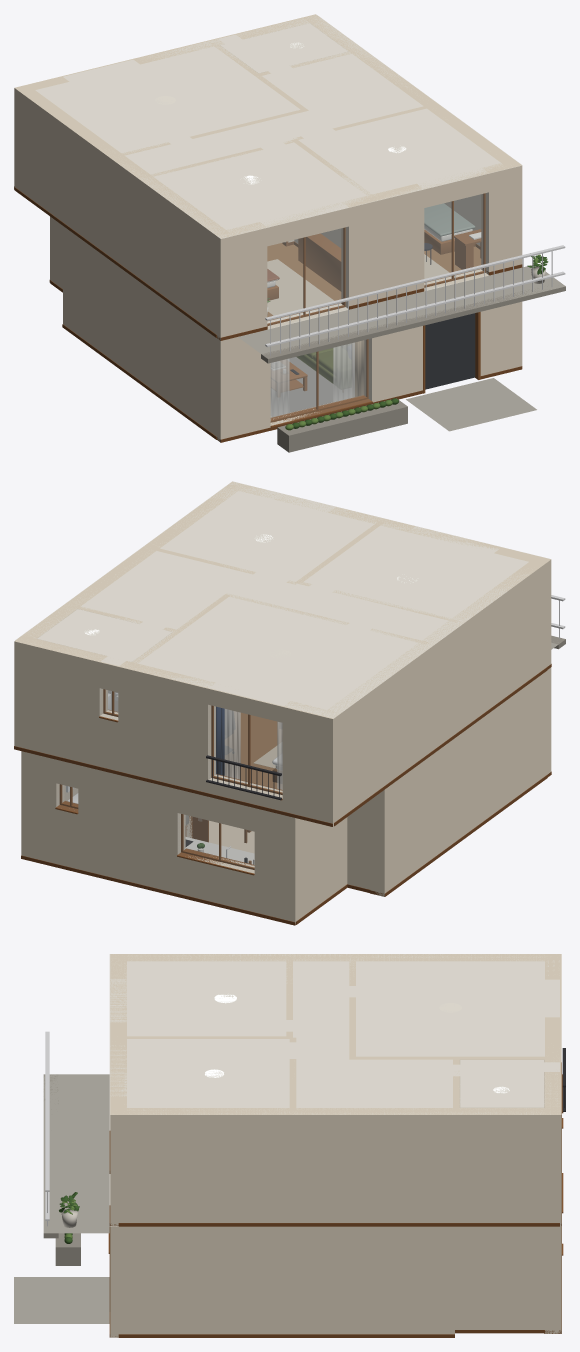
Rendered from reality-home.glb.
The picture shows the model from 3 angles, top to bottom: view 1: azimuth 30°, elevation 25°; view 2: azimuth 150°, elevation 25°; view 3: azimuth 270°, elevation 25°; orthographic projection. The views are drawn at different scales.
Visible parts, largest first — view 1: plane.019, box.298, box, box.337, plane.018, box.331, box.007, box.328, box.002, box.340, box.346, plane.009 (+27 smaller); view 2: plane.019, box.298, box, box.064, box.312, box.324, box.300, box.305, box.052, box.050, box.080, box.055 (+20 smaller); view 3: plane.019, box.326, box.022, plane.018, box.082, plane.009, box.298, box.324, box.020, box.080, box.327, box.346 (+9 smaller).
Part boxes in pixels (<box>): plane.019: <box>35,15,522,238</box>; box.298: <box>15,85,229,334</box>; box: <box>63,226,216,436</box>; box.337: <box>341,183,424,308</box>; plane.018: <box>238,265,565,354</box>; box.331: <box>267,227,348,328</box>; box.007: <box>271,339,371,424</box>; box.328: <box>213,222,267,339</box>; box.002: <box>213,327,270,441</box>; box.340: <box>424,193,488,290</box>; box.346: <box>481,162,522,274</box>; plane.009: <box>406,378,536,431</box>; plane.019: <box>15,481,550,718</box>; box.298: <box>321,562,543,817</box>; box: <box>370,671,547,896</box>; box.064: <box>79,765,185,893</box>; box.312: <box>118,661,215,792</box>; box.324: <box>14,635,107,766</box>; box.300: <box>282,701,341,826</box>; box.305: <box>208,705,282,796</box>; box.052: <box>254,808,300,924</box>; box.050: <box>296,817,347,920</box>; box.080: <box>21,751,64,863</box>; box.055: <box>177,856,254,912</box>; plane.019: <box>109,954,559,1114</box>; box.326: <box>118,1108,559,1222</box>; box.022: <box>118,1226,454,1334</box>; plane.018: <box>43,1074,109,1233</box>; box.082: <box>455,1226,544,1329</box>; plane.009: <box>14,1277,109,1323</box>; box.298: <box>118,954,559,961</box>; box.324: <box>545,1072,561,1226</box>; box.020: <box>110,1226,126,1337</box>; box.080: <box>545,1226,561,1333</box>; box.327: <box>118,1223,559,1226</box>; box.346: <box>110,1097,126,1226</box>.
Bounding box in the file's own units: 8.74 × 5.46 × 12.13.
